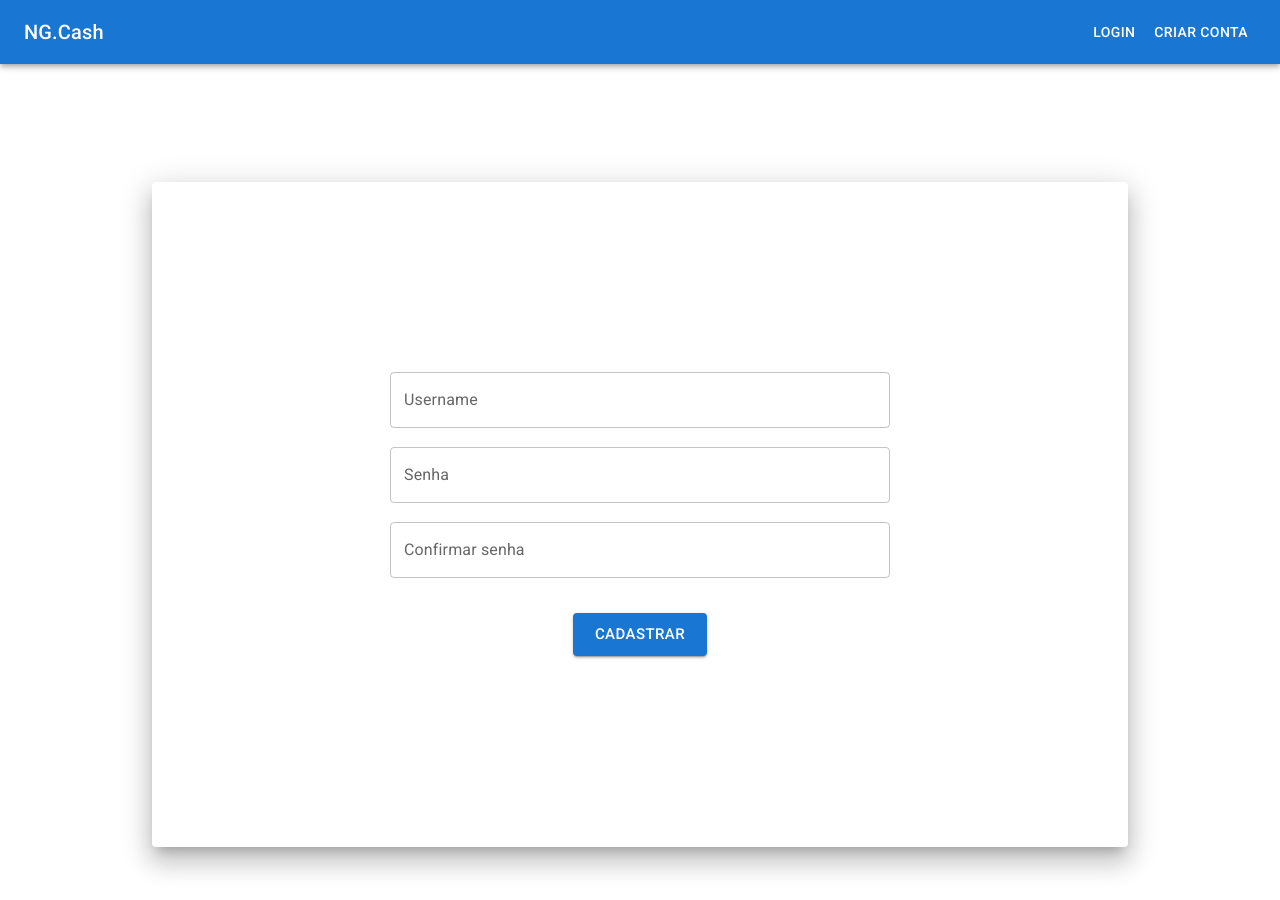
Test: Register page › App behavior › Should not allow create an account without different passwords
In the field labelled "Username": (640, 400) [390,372,890,428], type "user"
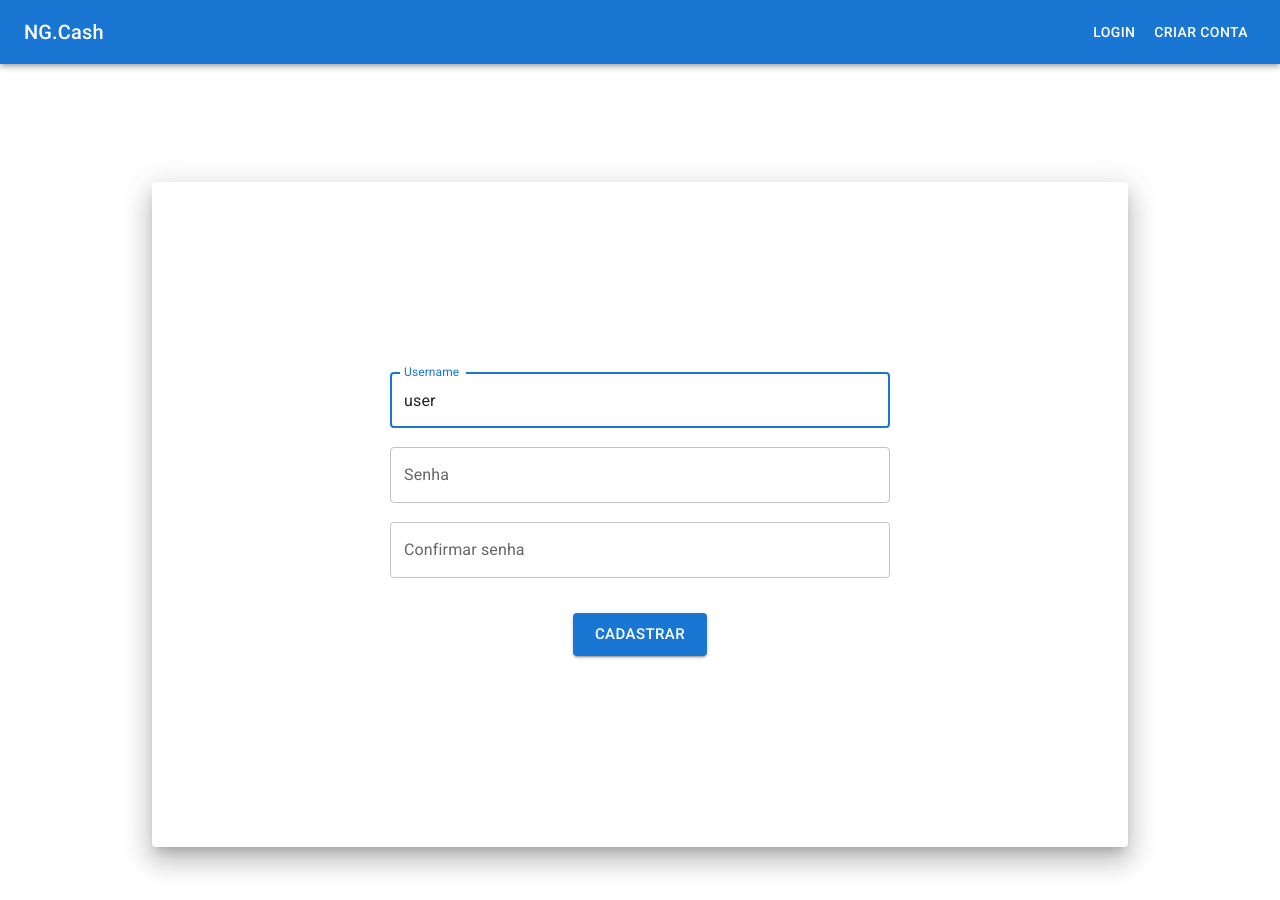
In the password field labelled "Senha": (640, 475) [390,447,890,503], type "User1234"
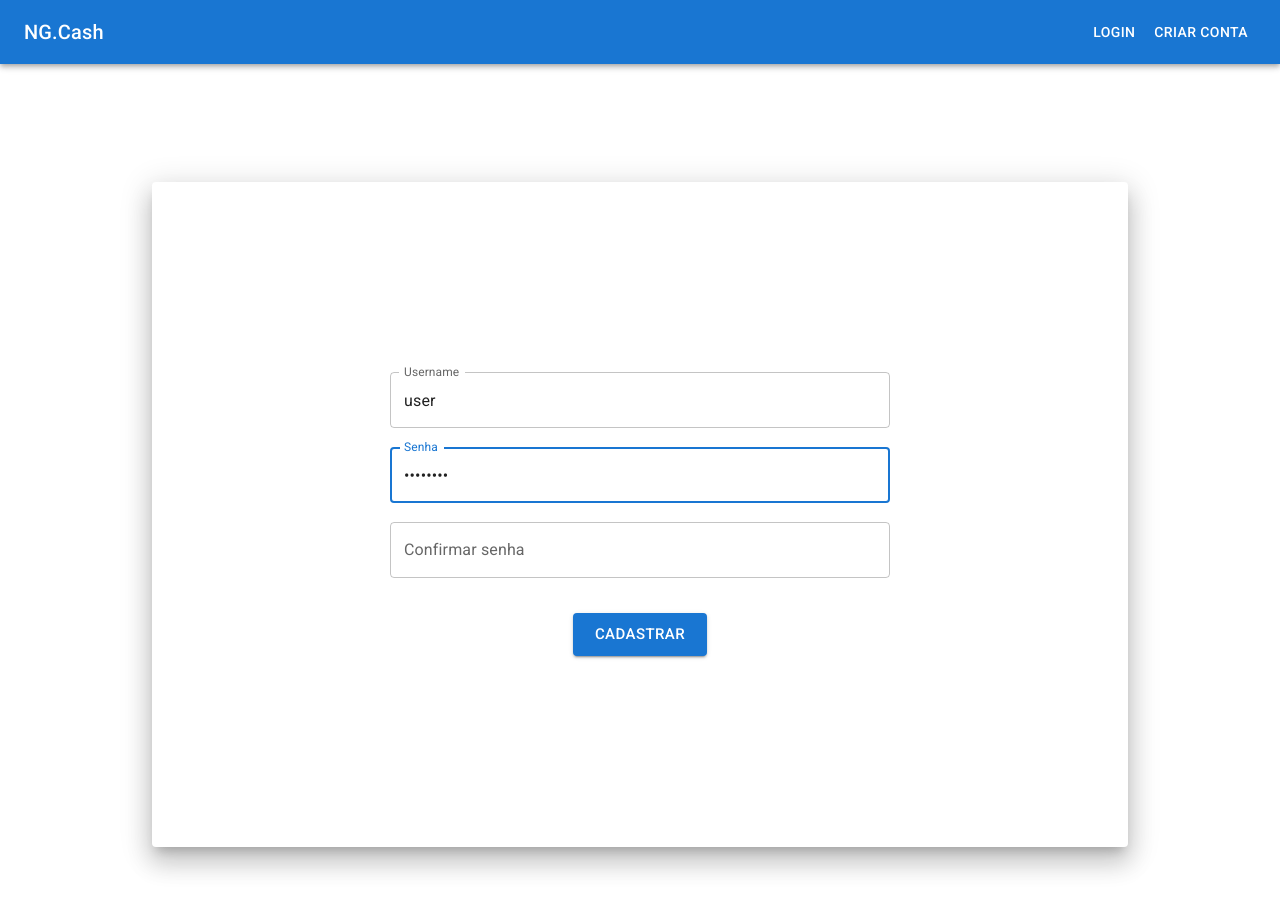
In the password field labelled "Confirmar senha": (640, 550) [390,522,890,578], type "User3456"
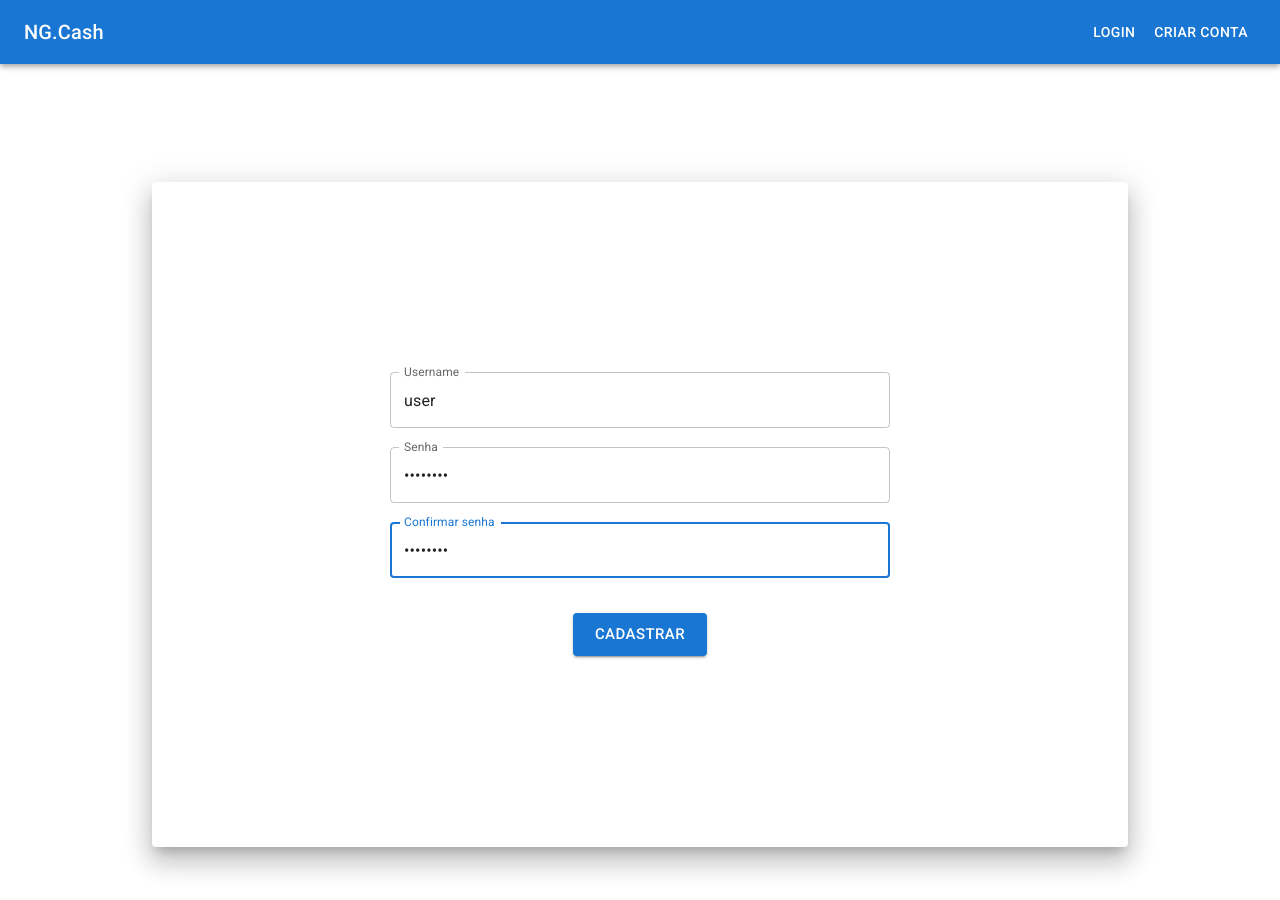
Click the button "Cadastrar": (640, 635) [573,613,707,656]
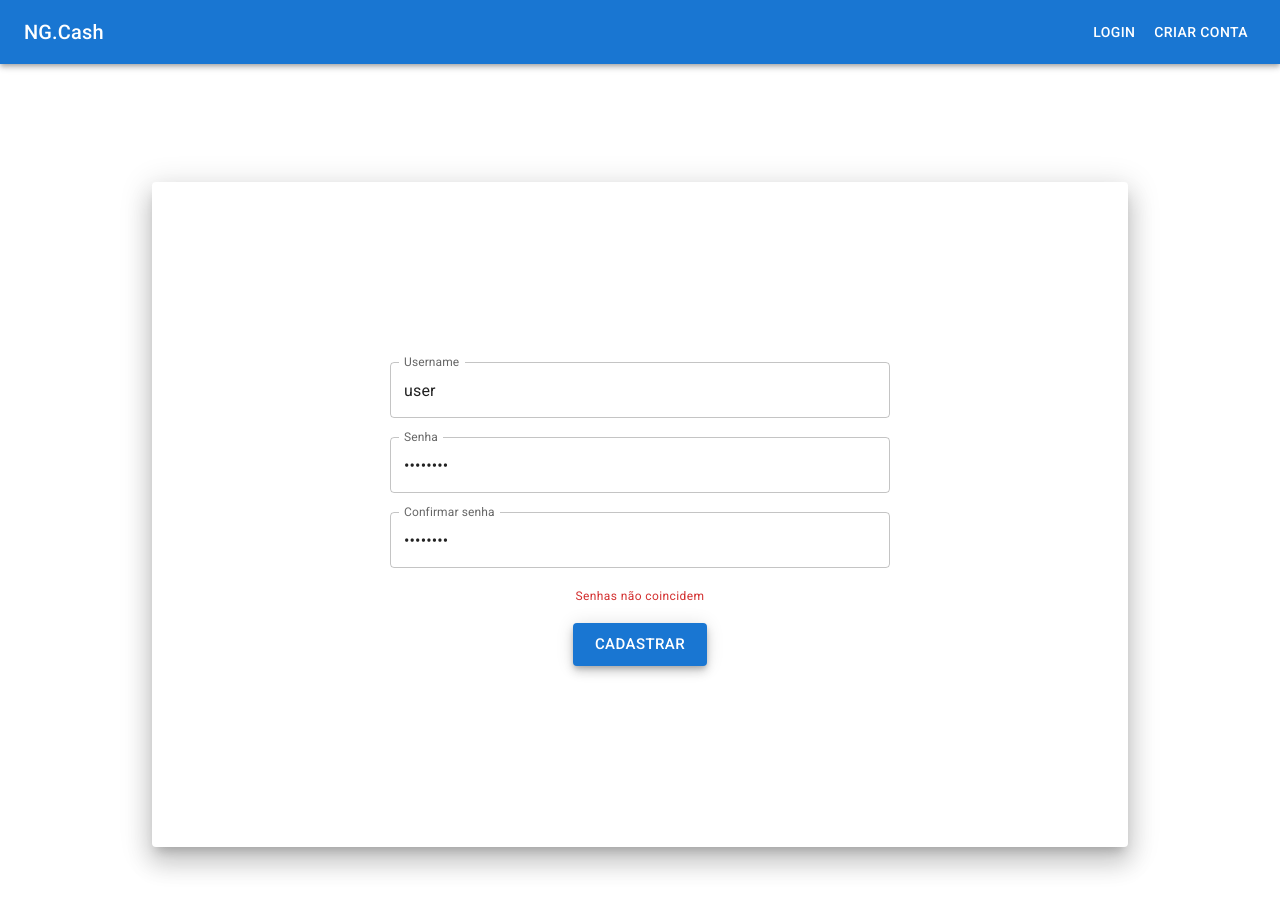
Check: the text "Senhas não coincidem" is shown, box [576,587,704,607]
